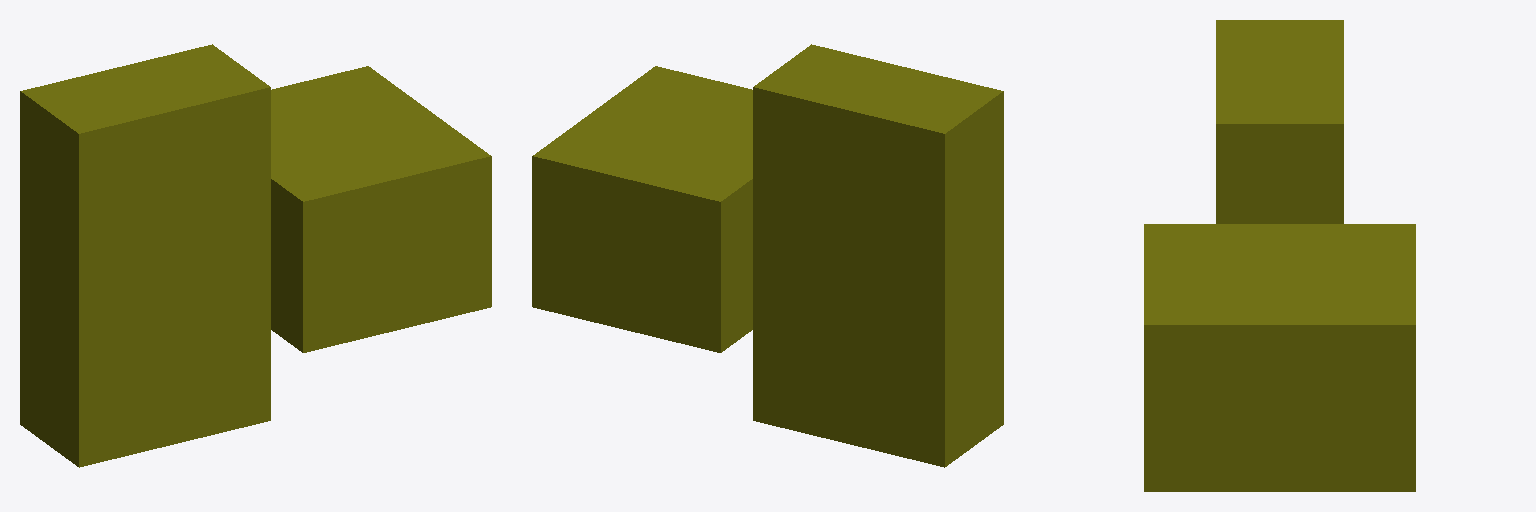
URDF robot description (block):
<robot name="block">
  
  <link name="block1">
    <visual>
      <origin xyz="0.0 0.0 0.0" rpy="0 0 0"/>
      <geometry>
        <box size="0.02398913947866845 0.025311143986607353 0.07971677311310411"/>
      </geometry>
      <material name="dark_yellow">
        <color rgba="0.5 0.5 0.1 1"/>
      </material>
    </visual> 
    <collision>
      <origin xyz="0.0 0.0 0.0" rpy="0 0 0"/>
      <geometry>
        <box size="0.02398913947866845 0.025311143986607353 0.07971677311310411"/>
      </geometry>
    </collision>
    <inertial>
      <mass value="0.7189495276323409"/>
      <inertia ixx="0.00041911270109270155" ixy="0" ixz="0" iyy="0.00041520789466896663" iyz="0" izz="7.286150987645053e-05"/>
    </inertial>
  </link>

  <link name="block2">
    <visual>
      <origin xyz="0.0 0.0 0.0" rpy="0 0 0"/>
      <geometry>
        <box size="0.02398913947866845 0.025311143986607353 0.07971677311310411"/>
      </geometry>
      <material name="dark_yellow">
        <color rgba="0.5 0.5 0.1 1"/>
      </material>
    </visual> 
    <collision>
      <origin xyz="0.0 0.0 0.0" rpy="0 0 0"/>
      <geometry>
        <box size="0.02398913947866845 0.025311143986607353 0.07971677311310411"/>
      </geometry>
    </collision>
    <inertial>
      <mass value="0.7189495276323409"/>
      <inertia ixx="0.00041911270109270155" ixy="0" ixz="0" iyy="0.00041520789466896663" iyz="0" izz="7.286150987645053e-05"/>
    </inertial>
  </link>

  <link name="block3">
    <visual>
      <origin xyz="0.0 0.0 0.0" rpy="0 0 0"/>
      <geometry>
        <box size="0.04707288630244435 0.05333267650542882 0.036141010177624604"/>
      </geometry>
      <material name="dark_yellow">
        <color rgba="0.5 0.5 0.1 1"/>
      </material>
    </visual> 
    <collision>
      <origin xyz="0.0 0.0 0.0" rpy="0 0 0"/>
      <geometry>
        <box size="0.04707288630244435 0.05333267650542882 0.036141010177624604"/>
      </geometry>
    </collision>
    <inertial>
      <mass value="0.7189495276323409"/>
      <inertia ixx="0.0002486694837490083" ixy="0" ixz="0" iyy="0.00021101343829043064" iyz="0" izz="0.00030317089108053804"/>
    </inertial>
  </link>

  <joint name="block_link1" type="fixed">
    <parent link="block1"/>
    <child link="block2"/>
    <origin xyz="0.02398913947866845 0.0 0.0"/>
  </joint>

  <joint name="block_link2" type="fixed">
    <parent link="block2"/>
    <child link="block3"/>
    <origin xyz="0.0355310128905564 0.0 0.0"/>
  </joint>

</robot>

--- Facts derived from the render (not from the file) ---
Views: 3 orthographic renders of the robot side by side, from view 1: azimuth 30°, elevation 25°; view 2: azimuth 150°, elevation 25°; view 3: azimuth 270°, elevation 25°.
Model block with 3 links and 2 joints (2 fixed), rooted at block1, posed all joints at 0.
Visible links, largest first — view 1: block1, block3, block2; view 2: block1, block3, block2; view 3: block3, block2, block1.
Link boxes in pixels (<box>): block1: <box>20,68,174,467</box>; block3: <box>271,66,491,352</box>; block2: <box>117,44,270,443</box>; block1: <box>849,68,1003,467</box>; block3: <box>532,66,752,352</box>; block2: <box>753,44,906,443</box>; block3: <box>1144,224,1415,491</box>; block2: <box>1216,72,1343,223</box>; block1: <box>1216,20,1343,71</box>.
Size in the robot's own frame: 0.0951 by 0.0533 by 0.0797 metres.
Geometry: primitives only (box / cylinder / sphere), no mesh files.